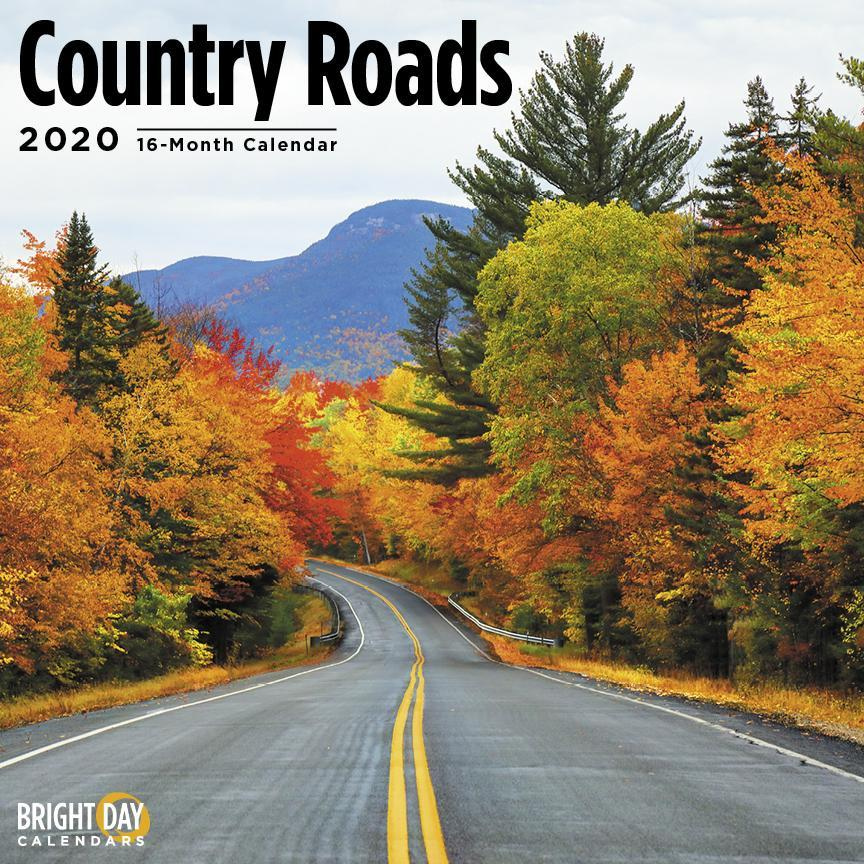language: (10, 9, 514, 158), (8, 793, 160, 856)
